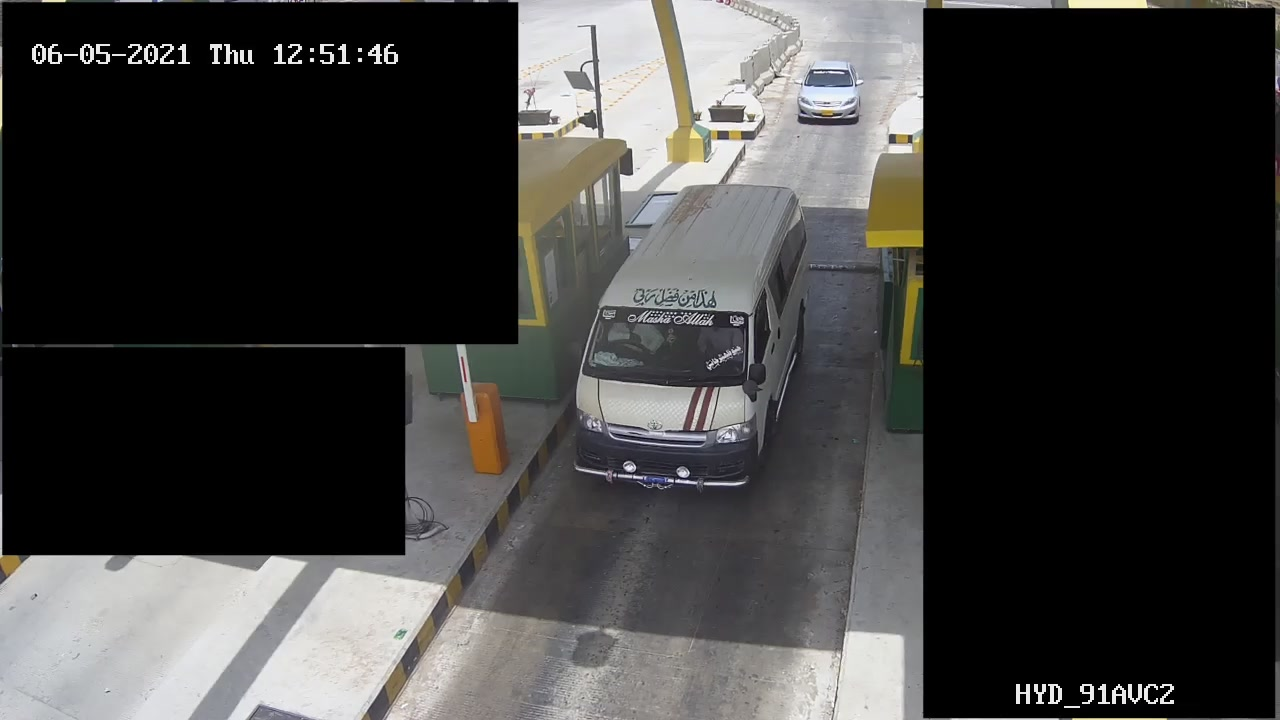F2: (570, 177, 811, 496)
